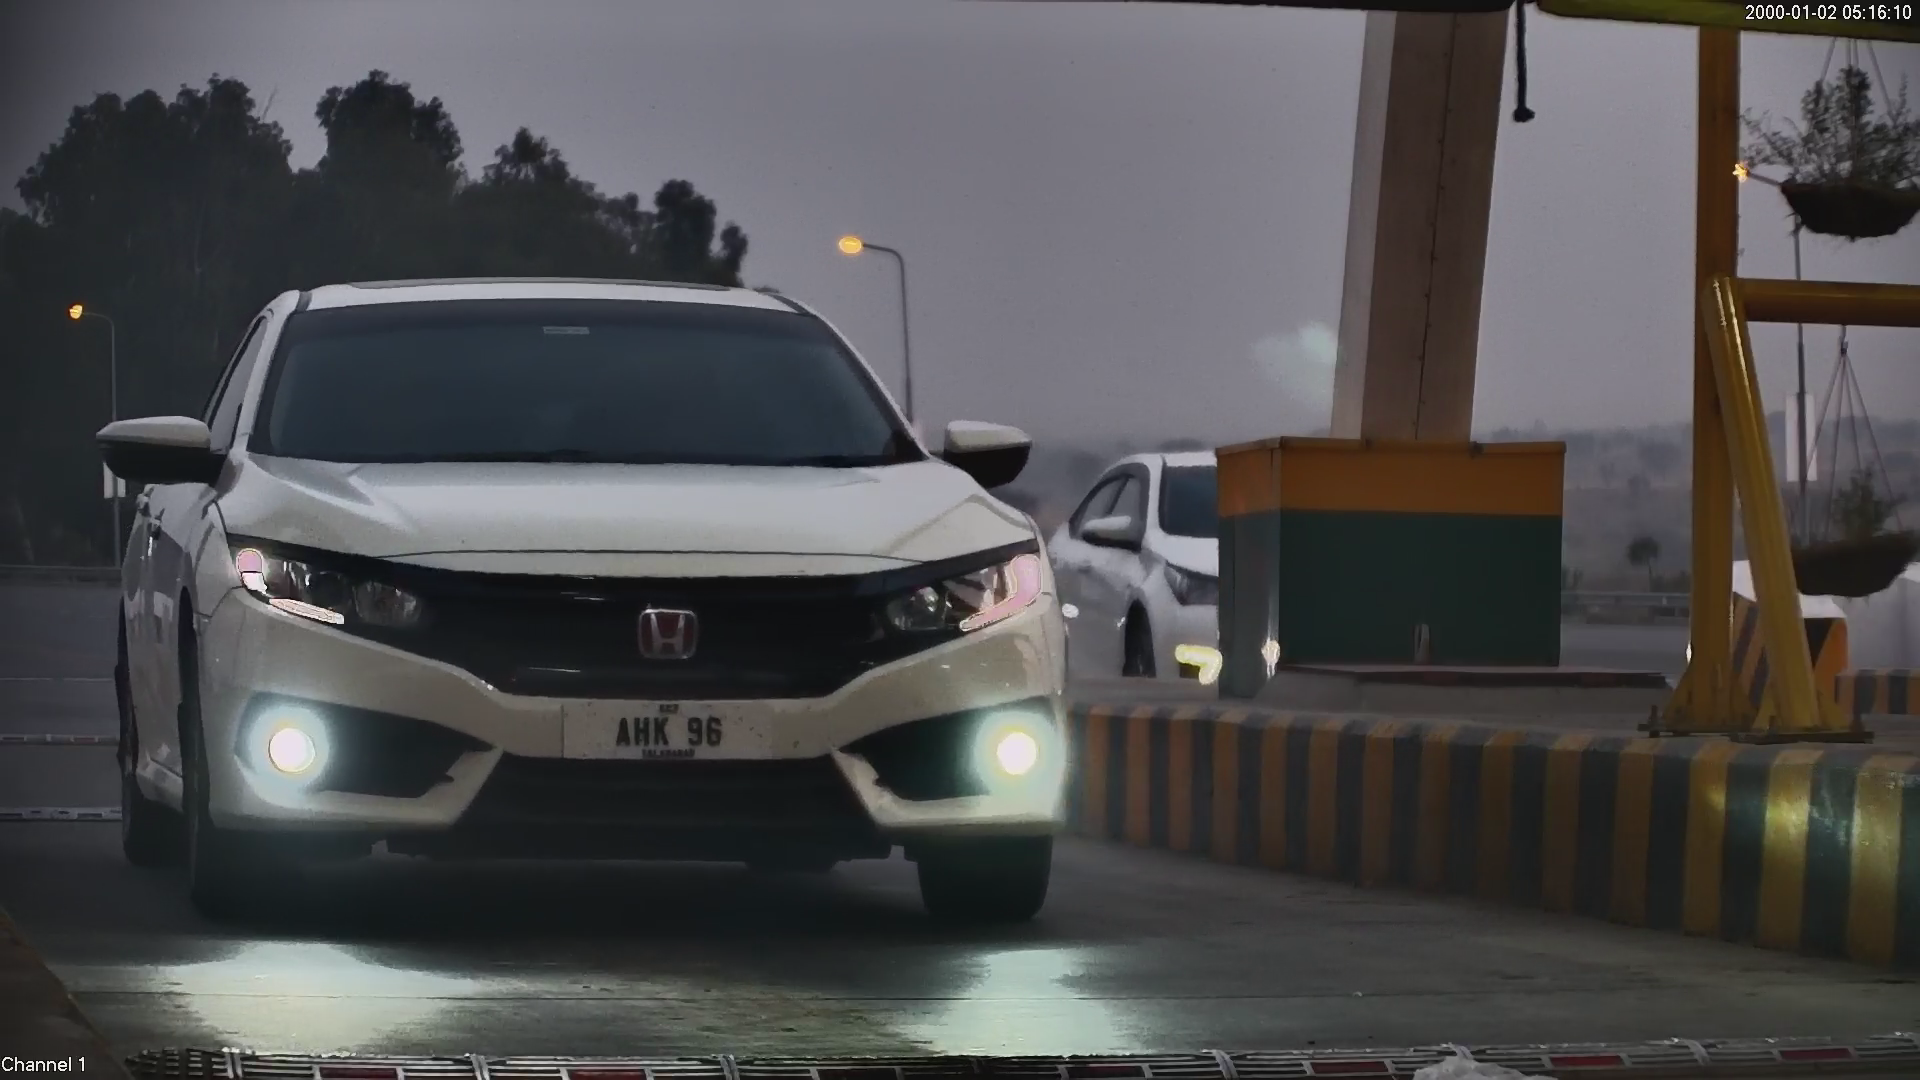Number_Plate: (554, 690, 780, 774)
